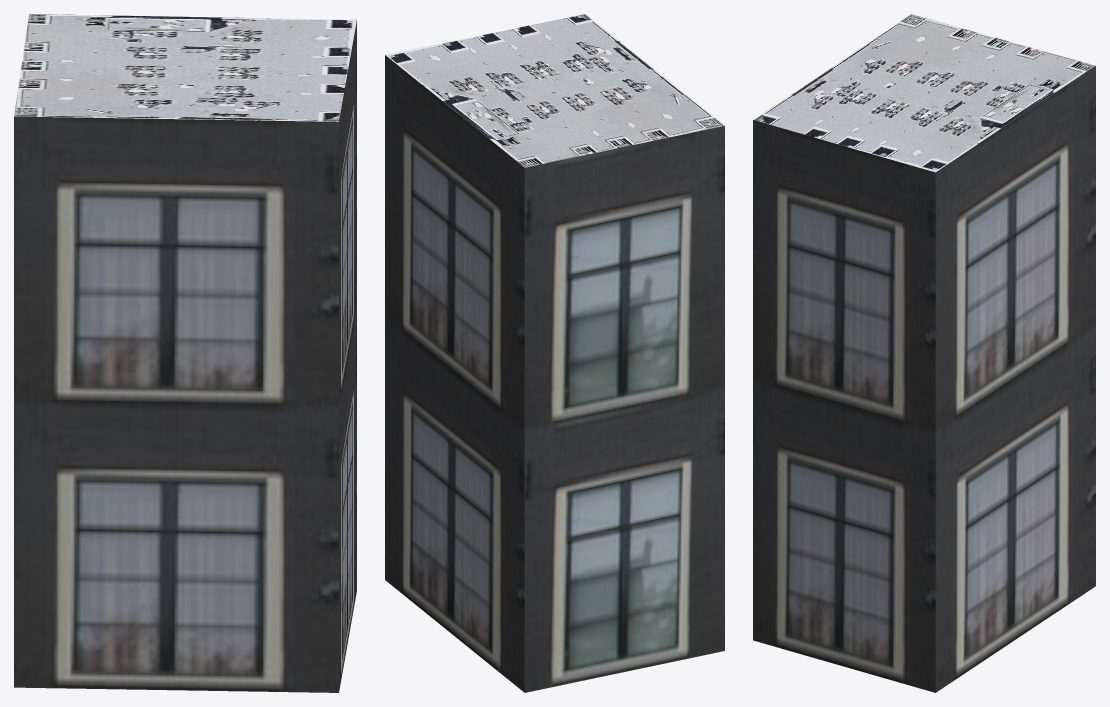
The model's file is ResTex__2048.fbx.
3 renders of one model, left to right at view 1: azimuth 30°, elevation 25°; view 2: azimuth 150°, elevation 25°; view 3: azimuth 270°, elevation 25°, orthographic. The views are drawn at different scales.
Parts seen in each view (by area): view 1: CityEngineMaterial_22_m, CityEngineMaterial_4_m; view 2: CityEngineMaterial_22_m, CityEngineMaterial_4_m; view 3: CityEngineMaterial_22_m, CityEngineMaterial_4_m.
Part boxes in pixels (x1,y1,x2,y2): CityEngineMaterial_22_m: [14, 21, 356, 692]; CityEngineMaterial_4_m: [14, 14, 356, 121]; CityEngineMaterial_22_m: [385, 55, 724, 692]; CityEngineMaterial_4_m: [385, 14, 724, 167]; CityEngineMaterial_22_m: [753, 66, 1095, 692]; CityEngineMaterial_4_m: [753, 14, 1095, 172].
Bounding box in the file's own units: 3.92 × 6 × 3.58.
Materials: 2 (2 with a texture image).
